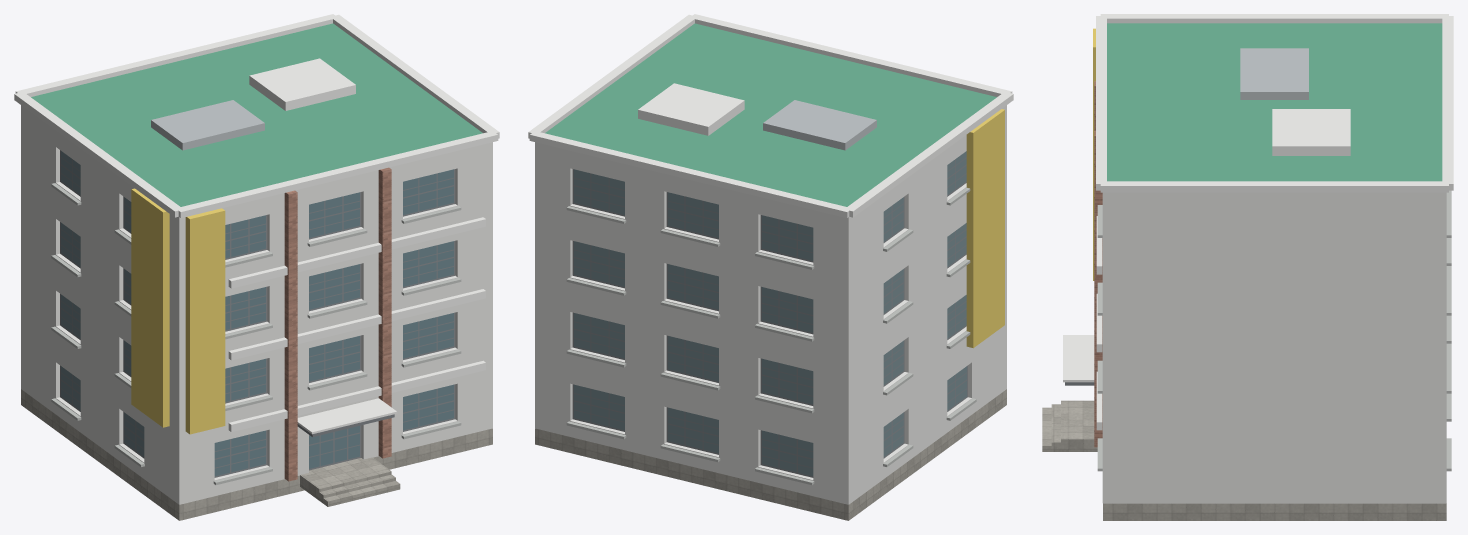
The picture shows the model from 3 angles, left to right: view 1: azimuth 30°, elevation 25°; view 2: azimuth 150°, elevation 25°; view 3: azimuth 270°, elevation 25°; orthographic projection. The views are drawn at different scales.
Parts seen in each view (by area): view 1: west-wing__panel, west-wing__canopy, west-wing__cap, west-wing__glass, west-wing__yellow, west-wing__brick, west-wing__frame, west-wing__stone, west-wing__sill, west-wing__sideglass, west-wing__steel, west-wing__stair-front (+1 smaller); view 2: west-wing__panel, west-wing__canopy, west-wing__sideglass, west-wing__cap, west-wing__yellow, west-wing__frame, west-wing__stone, west-wing__sill, west-wing__steel; view 3: west-wing__panel, west-wing__canopy, west-wing__cap, west-wing__stone, west-wing__steel, west-wing__sill, west-wing__stair-front, west-wing__brick, west-wing__threshold-front, west-wing__yellow.
Boxes of the visible parts, x1,y1,x2,y2 form: west-wing__panel: (21, 105, 492, 504); west-wing__canopy: (31, 23, 482, 206); west-wing__cap: (14, 14, 499, 434); west-wing__glass: (214, 169, 453, 476); west-wing__yellow: (131, 188, 225, 434); west-wing__brick: (284, 167, 391, 481); west-wing__frame: (60, 150, 455, 477); west-wing__stone: (21, 389, 492, 520); west-wing__sill: (51, 183, 461, 484); west-wing__sideglass: (61, 151, 144, 456); west-wing__steel: (151, 100, 264, 150); west-wing__stair-front: (315, 468, 400, 506); west-wing__panel: (535, 105, 1006, 504); west-wing__canopy: (545, 23, 996, 206); west-wing__sideglass: (574, 151, 966, 476); west-wing__cap: (528, 14, 1013, 217); west-wing__yellow: (966, 109, 1004, 348); west-wing__frame: (572, 157, 967, 477); west-wing__stone: (535, 389, 1006, 520); west-wing__sill: (566, 187, 976, 484); west-wing__steel: (763, 100, 876, 150); west-wing__panel: (1102, 192, 1446, 503); west-wing__canopy: (1107, 23, 1442, 181); west-wing__cap: (1063, 14, 1453, 430); west-wing__stone: (1103, 503, 1446, 520); west-wing__steel: (1240, 48, 1308, 99); west-wing__sill: (1097, 190, 1451, 471); west-wing__stair-front: (1042, 400, 1070, 451); west-wing__brick: (1094, 81, 1102, 447); west-wing__threshold-front: (1070, 400, 1097, 451); west-wing__yellow: (1093, 28, 1095, 280).
Size of the model in its own units: 16.66 by 15.45 by 16.76.
Materials: 13 (2 with a texture image).
